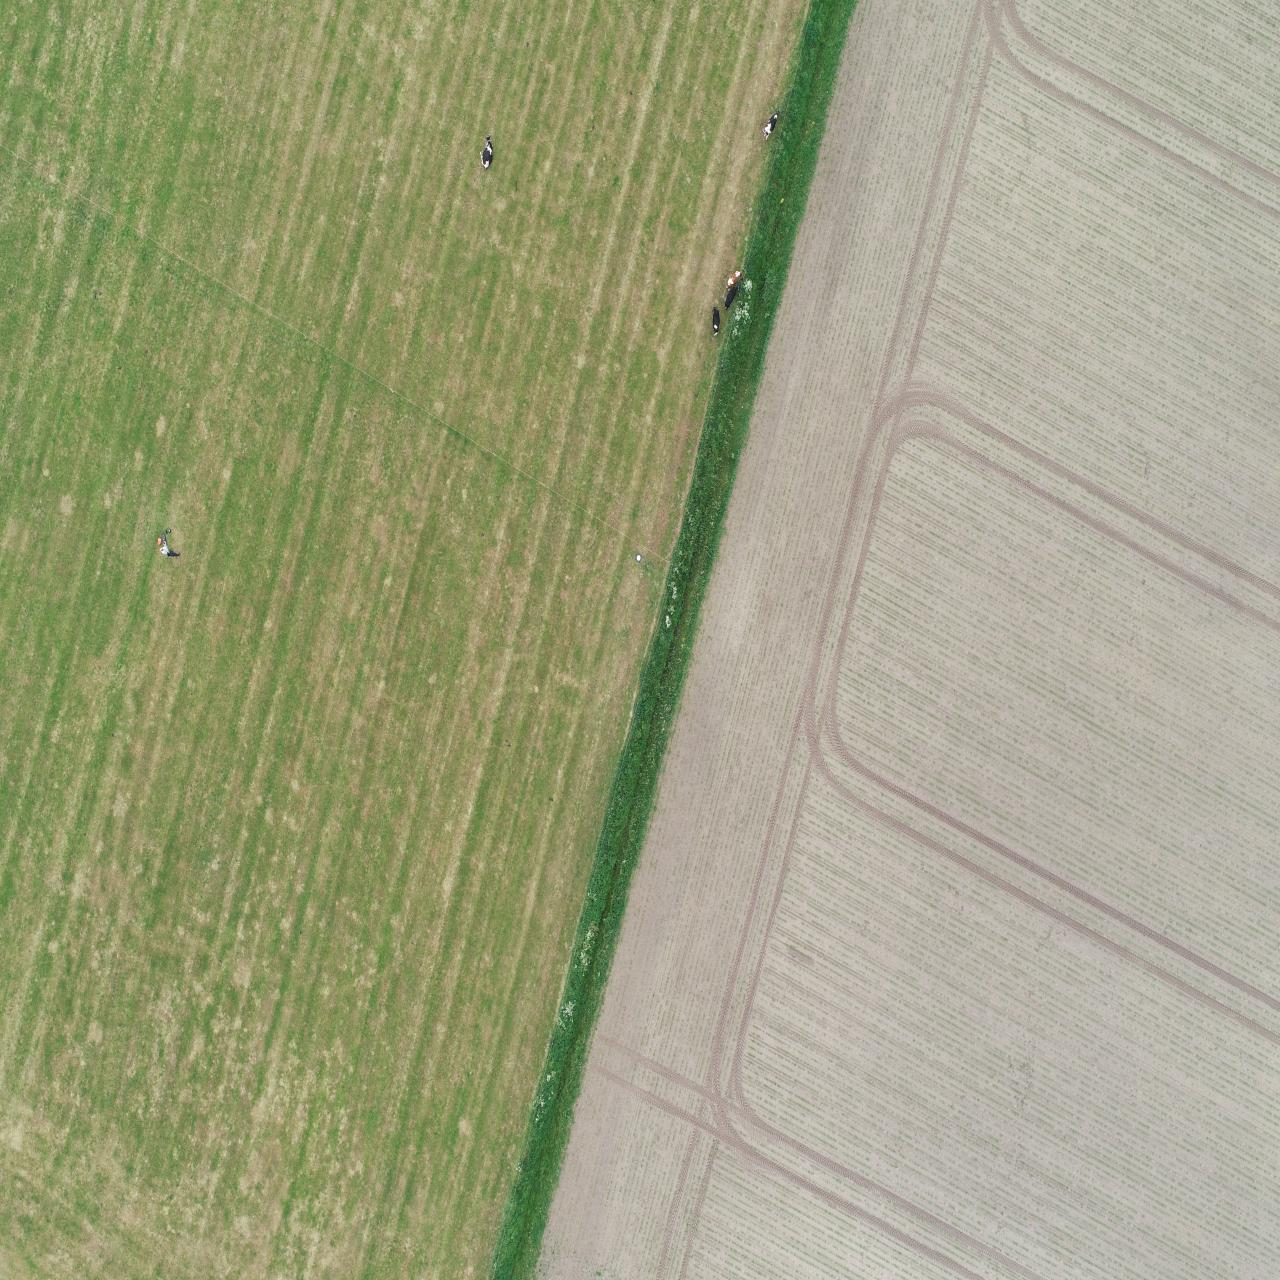cow: (479, 131, 494, 171), (762, 107, 780, 139), (724, 283, 741, 311), (725, 266, 744, 289), (712, 305, 720, 337)
